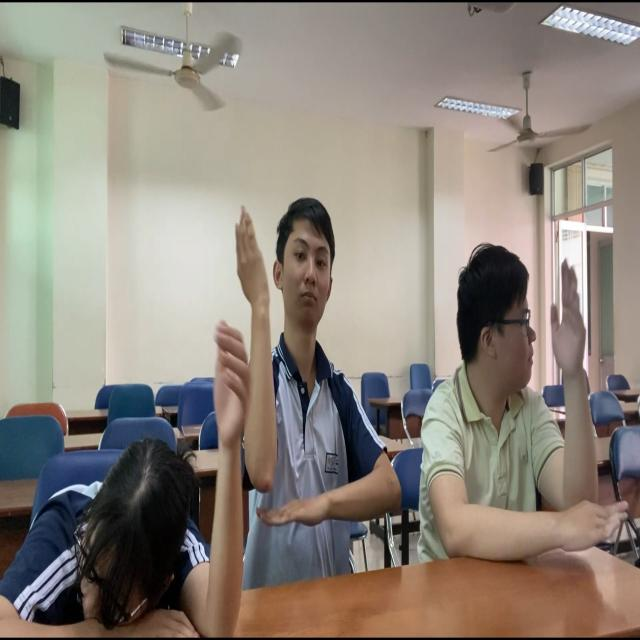raise_hand: (227, 166, 408, 572)
